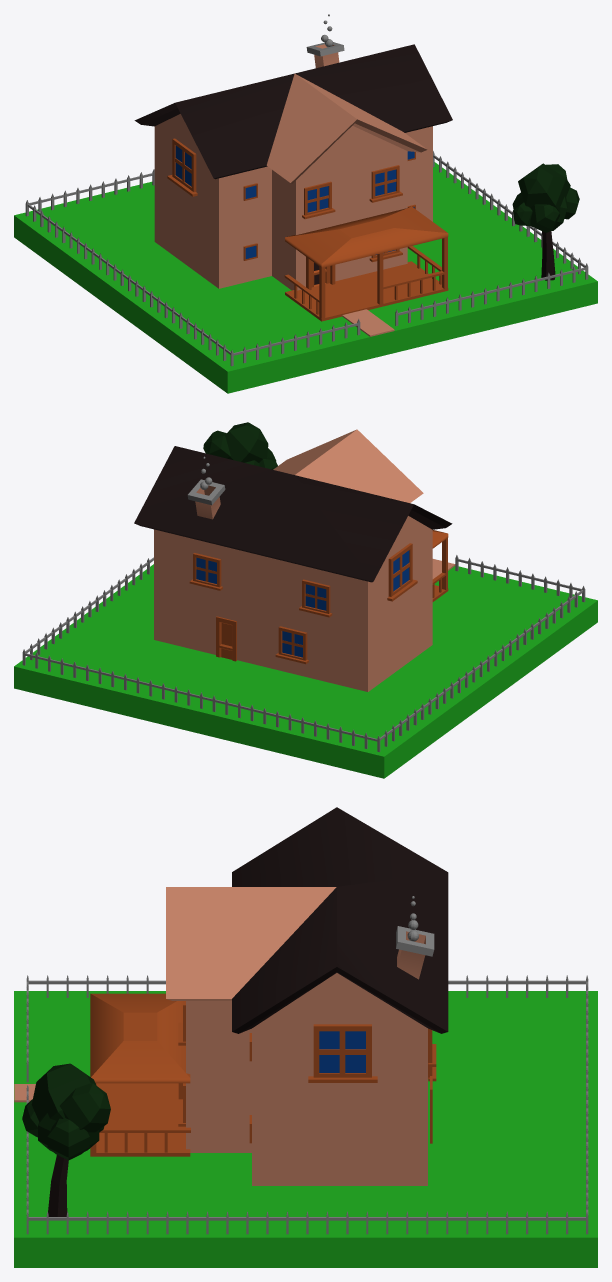
File: home.obj
3 renders of one model, top to bottom at view 1: azimuth 30°, elevation 25°; view 2: azimuth 150°, elevation 25°; view 3: azimuth 270°, elevation 25°, orthographic. The views are drawn at different scales.
Visible parts, largest first — view 1: pCube40, group1 pPlane1, group1 pCube4, pCube47 pCube48 pCube49 pCube50 pCube51 pCube52 pCube53 pCube54 , group1 pCube3, pSphere11, pCube170, pSphere8, pCube168, group1 pCube23, pCylinder1, group3 pPipe7 (+1 smaller); view 2: pCube40, group1 pPlane1, pCube47 pCube48 pCube49 pCube50 pCube51 pCube52 pCube53 pCube54 , pSphere11, pCube167, group1 pCube23, group1 pCube30, pCube168, group3 pPipe7, pSphere10; view 3: group1 pPlane1, pCube40, group1 pCube4, group1 pCube3, pCube47 pCube48 pCube49 pCube50 pCube51 pCube52 pCube53 pCube54 , pCube169, pSphere11, pSphere10, group2 pPlane5, group1 pCube23, pSphere7, group2 pPipe7 (+2 smaller).
Part boxes in pixels (box(x1,y1,x2,y2)): pCube40: box(134, 44, 452, 290); group1 pPlane1: box(14, 162, 597, 393); group1 pCube4: box(285, 206, 448, 267); pCube47 pCube48 pCube49 pCube50 pCube51 pCube52 pCube53 pCube54 : box(25, 151, 588, 366); group1 pCube3: box(285, 261, 448, 321); pSphere11: box(518, 163, 570, 212); pCube170: box(342, 309, 394, 336); pSphere8: box(530, 204, 559, 232); pCube168: box(27, 204, 230, 354); group1 pCube23: box(306, 42, 344, 68); pCylinder1: box(541, 231, 555, 280); group3 pPipe7: box(172, 138, 196, 191); pCube40: box(134, 429, 452, 691); group1 pPlane1: box(14, 564, 597, 778); pCube47 pCube48 pCube49 pCube50 pCube51 pCube52 pCube53 pCube54 : box(22, 555, 585, 751); pSphere11: box(225, 422, 268, 462); pCube167: box(25, 653, 377, 741); group1 pCube23: box(187, 479, 225, 519); group1 pCube30: box(216, 616, 236, 661); pCube168: box(380, 590, 583, 740); group3 pPipe7: box(388, 543, 412, 596); pSphere10: box(203, 430, 230, 458); group1 pPlane1: box(14, 991, 597, 1267); pCube40: box(166, 807, 448, 1185); group1 pCube4: box(90, 993, 190, 1083); group1 pCube3: box(90, 1083, 190, 1156); pCube47 pCube48 pCube49 pCube50 pCube51 pCube52 pCube53 pCube54 : box(26, 975, 588, 1234); pCube169: box(28, 1217, 585, 1220); pSphere11: box(31, 1063, 96, 1121); pSphere10: box(60, 1083, 110, 1132); group2 pPlane5: box(319, 1031, 365, 1072); group1 pCube23: box(396, 926, 434, 979); pSphere7: box(47, 1118, 89, 1160); group2 pPipe7: box(313, 1024, 371, 1077).
Size of the model in its own units: 2937 by 1600 by 2923.
